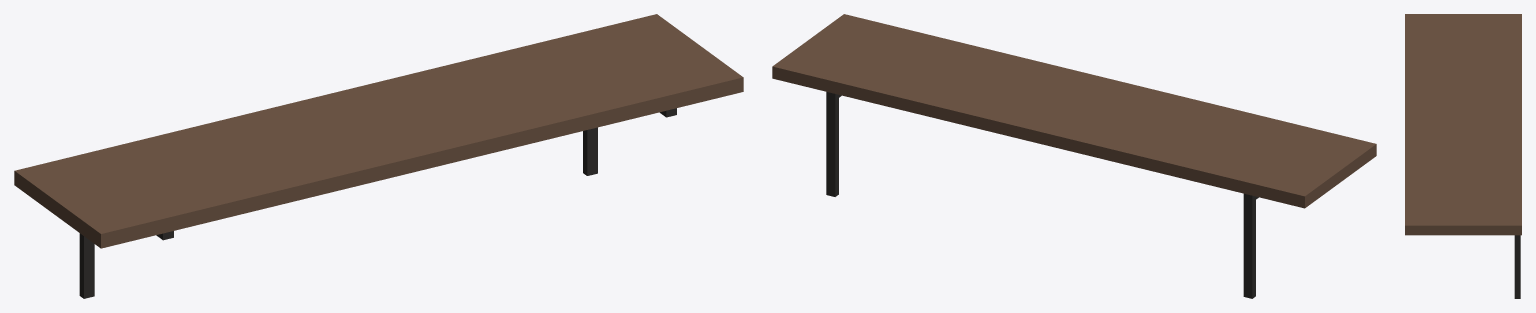
Rendered from kitchen-open-shelf.glb.
3 views of the same model, side by side, from view 1: azimuth 30°, elevation 25°; view 2: azimuth 150°, elevation 25°; view 3: azimuth 270°, elevation 25° (orthographic). The views are drawn at different scales.
Parts seen in each view (by area): view 1: wood, plastic-dark; view 2: wood, plastic-dark; view 3: wood, plastic-dark.
Boxes of the visible parts, x1,y1,x2,y2 form: wood: (14, 14, 743, 248); plastic-dark: (79, 108, 676, 298); wood: (772, 14, 1376, 208); plastic-dark: (826, 92, 1258, 298); wood: (1405, 14, 1521, 235); plastic-dark: (1514, 235, 1520, 298).
Bounding box in the file's own units: 1.2 × 0.25 × 0.28.
